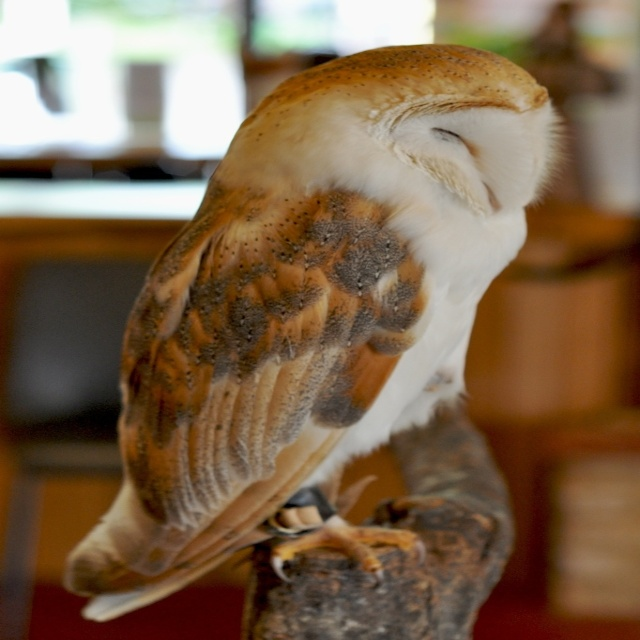Owl: (60, 42, 573, 626)
